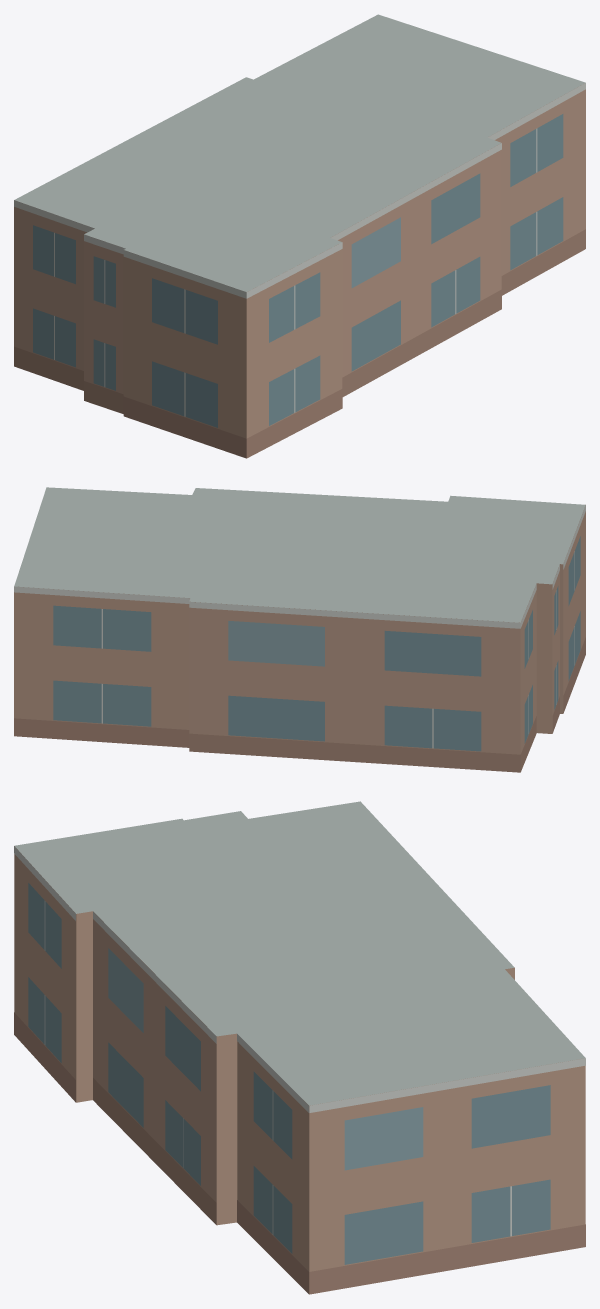
Rendered from survey-upis-32836443.glb.
The picture shows the model from 3 angles, top to bottom: view 1: azimuth 30°, elevation 25°; view 2: azimuth 150°, elevation 25°; view 3: azimuth 270°, elevation 25°; orthographic projection. The views are drawn at different scales.
Visible parts, largest first — view 1: survey-upis-32836443.tmp; view 2: survey-upis-32836443.tmp; view 3: survey-upis-32836443.tmp.
Boxes of the visible parts, x1,y1,x2,y2 form: survey-upis-32836443.tmp: [14, 14, 585, 458]; survey-upis-32836443.tmp: [14, 487, 585, 772]; survey-upis-32836443.tmp: [14, 801, 585, 1294].
Bounding box in the file's own units: 21.09 × 6.1 × 16.74.
